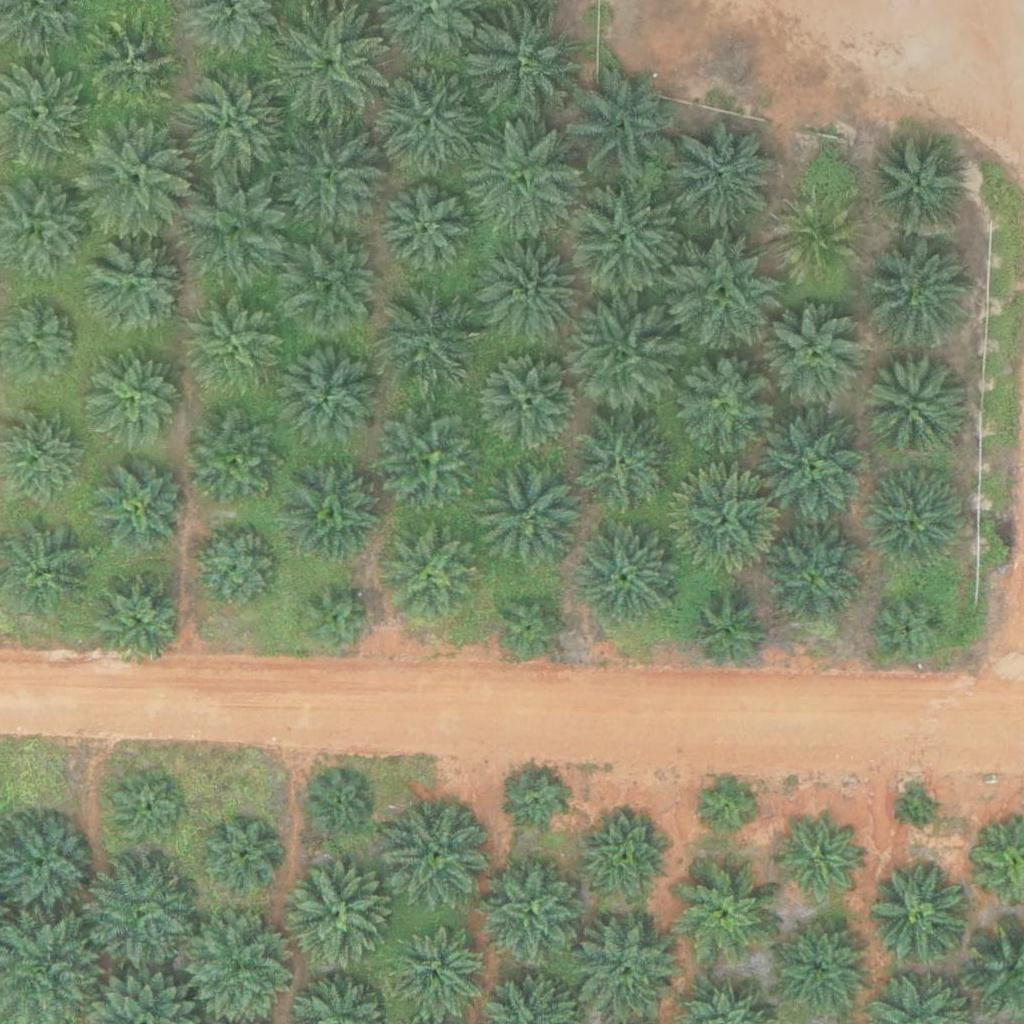Kelapa_Sawit: (670, 120, 783, 234), (668, 236, 781, 350), (568, 71, 681, 185), (757, 409, 870, 522), (273, 10, 386, 123), (272, 115, 385, 228), (175, 64, 288, 177), (568, 177, 680, 291), (471, 10, 583, 124), (670, 470, 782, 583), (865, 235, 977, 348), (565, 302, 677, 415), (468, 124, 580, 237), (372, 69, 484, 182), (181, 171, 293, 284), (79, 120, 191, 233), (81, 853, 193, 966), (867, 135, 967, 236), (764, 527, 864, 628), (573, 418, 673, 519), (577, 525, 677, 626), (479, 241, 579, 342), (480, 354, 580, 455), (480, 463, 580, 564), (379, 286, 479, 387), (381, 412, 481, 513), (381, 524, 481, 625), (287, 236, 387, 337), (281, 344, 381, 445), (282, 466, 382, 567), (188, 293, 288, 394), (187, 410, 287, 511), (86, 235, 186, 336), (85, 351, 185, 452), (288, 862, 388, 963), (390, 803, 490, 904), (481, 860, 581, 961), (576, 917, 676, 1018), (678, 864, 778, 965), (770, 916, 870, 1017), (862, 355, 962, 455), (867, 469, 967, 569), (768, 308, 868, 408), (674, 358, 774, 458), (88, 568, 188, 668), (870, 861, 970, 961), (89, 21, 177, 110), (773, 198, 861, 286), (193, 524, 281, 612), (775, 816, 863, 904), (381, 188, 468, 276), (98, 464, 185, 552), (587, 813, 674, 901), (110, 774, 185, 850), (873, 591, 948, 667), (299, 583, 374, 659), (207, 818, 282, 893), (691, 597, 766, 672), (495, 591, 570, 666), (308, 772, 371, 835), (508, 770, 570, 833), (694, 771, 756, 834), (901, 791, 938, 829)
